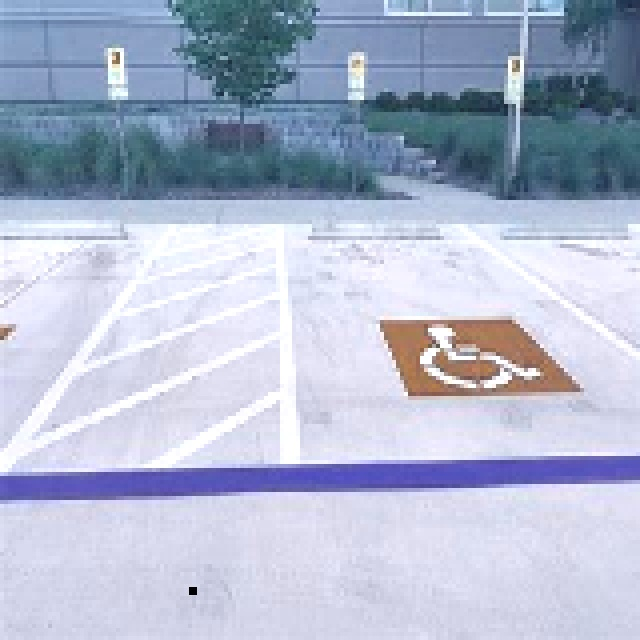ISA: (419, 318, 544, 391)
